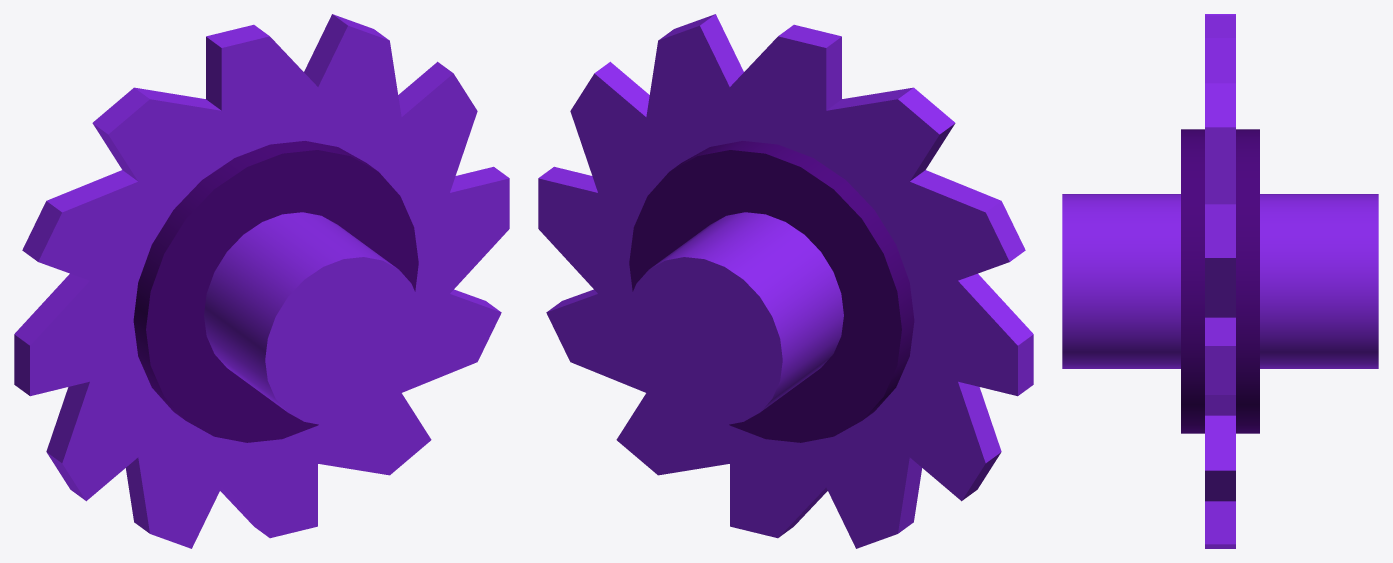
File: wheel_violet.fbx
The picture shows the model from 3 angles, left to right: view 1: azimuth 30°, elevation 25°; view 2: azimuth 150°, elevation 25°; view 3: azimuth 270°, elevation 25°; orthographic projection. The views are drawn at different scales.
Parts seen in each view (by area): view 1: wheel_violet; view 2: wheel_violet; view 3: wheel_violet.
Boxes of the visible parts, x1,y1,x2,y2 form: wheel_violet: (14, 14, 509, 548); wheel_violet: (538, 14, 1033, 548); wheel_violet: (1062, 14, 1378, 548).
Bounding box in the file's own units: 0.5843 × 0.5843 × 0.3442.
